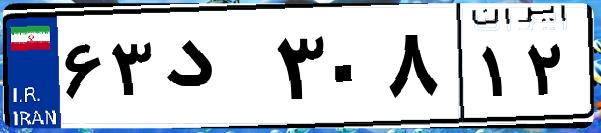0: (330, 28, 385, 110)
1: (475, 38, 525, 113)
2: (525, 38, 570, 115)
3: (270, 28, 330, 110), (110, 28, 158, 98)
6: (57, 26, 110, 100)
8: (385, 28, 445, 110)
د: (158, 20, 270, 120)
